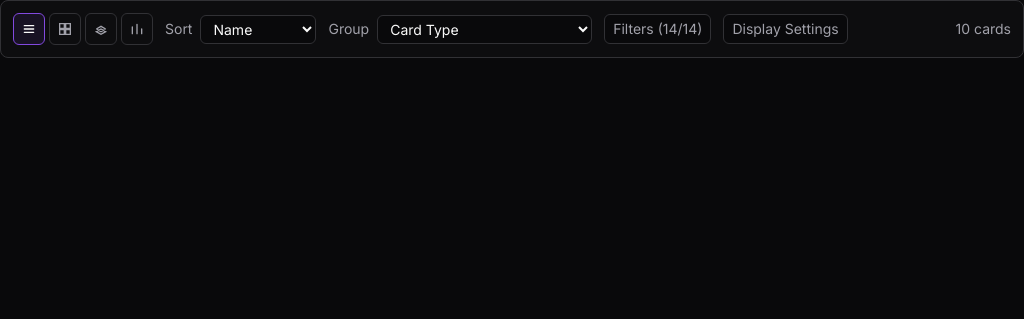
Test: ViewToolbar › unchecks a selected color filter with real state
The image size is (1024, 319).
Click the heading "Filters (14/14)".
click(658, 29)  # box [604,14,711,44]
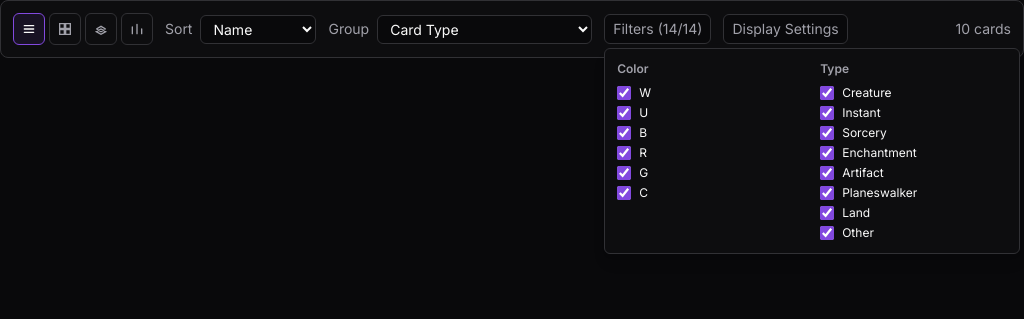
Expected: the checkbox labelled "W" is checked
Click the checkbox labelled "W".
click(624, 93)  # box [617,86,631,100]
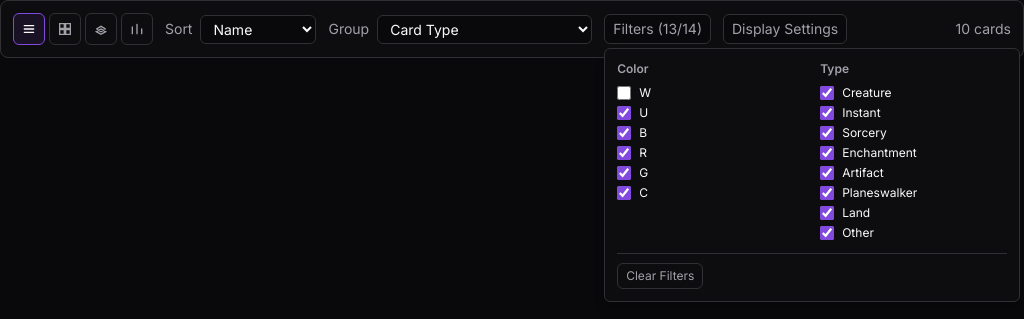
Expected: the checkbox labelled "W" is not checked, [617,86,631,100]
Expected: the heading "Filters (13/14)" is shown, [604,14,711,44]
